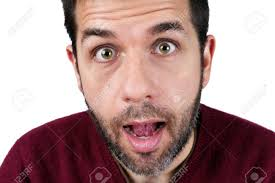white_male: (85, 22, 189, 159)
